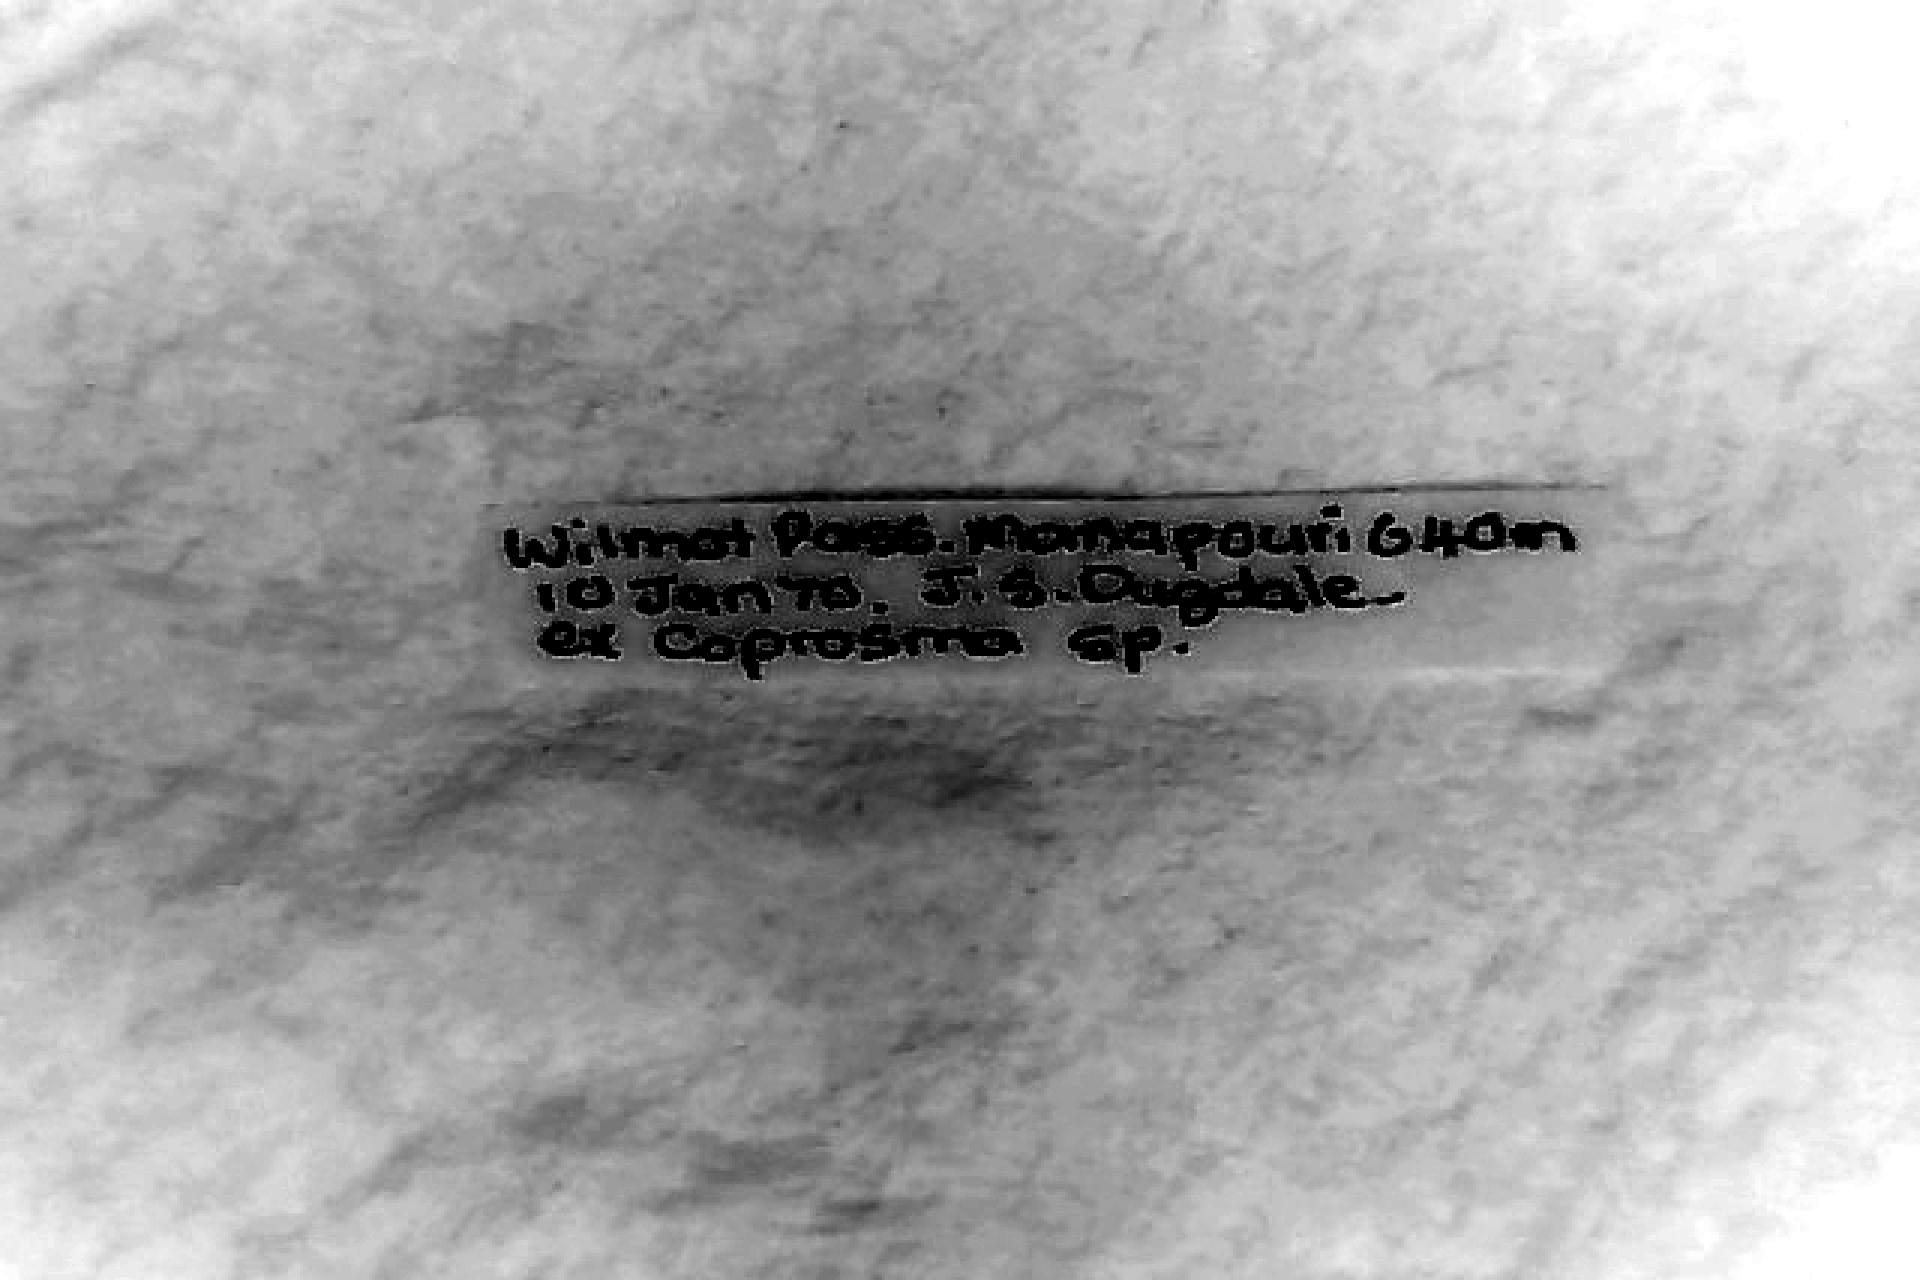hand_label: (494, 487, 1616, 683)
